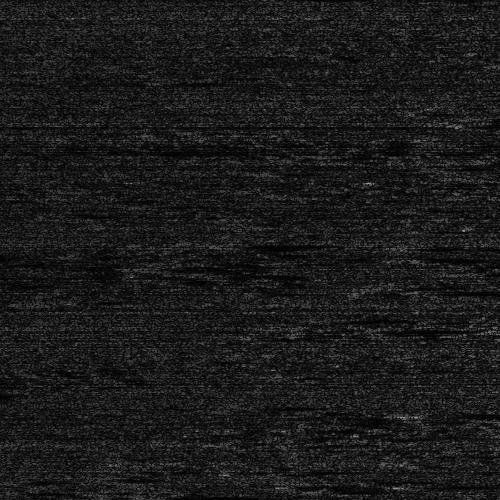object: (407, 409, 500, 430), (421, 120, 500, 125), (463, 325, 500, 334), (393, 287, 434, 292), (393, 483, 434, 486)
shadow: (414, 287, 500, 292), (414, 483, 487, 486), (462, 120, 500, 125)
